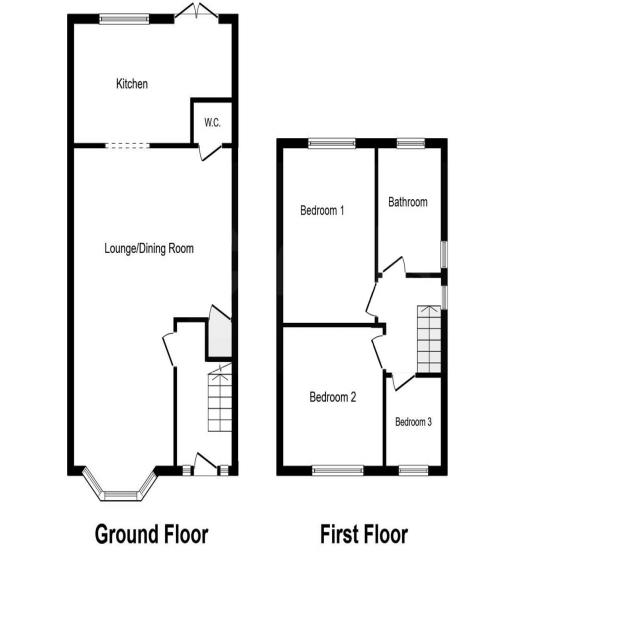DOOR: (193, 449, 218, 476), (160, 330, 177, 368), (381, 254, 407, 278), (370, 333, 386, 371), (391, 372, 416, 394), (364, 281, 378, 318)
DOUBLE DOOR: (174, 1, 219, 20)
ROOM: (67, 143, 239, 503), (67, 0, 239, 149), (276, 137, 379, 328), (276, 323, 386, 476), (382, 372, 448, 476)
WINDOW: (81, 465, 158, 502), (311, 464, 365, 477), (98, 13, 150, 26), (307, 137, 357, 150), (398, 464, 429, 477), (396, 137, 426, 150), (440, 240, 448, 269), (441, 285, 448, 311), (219, 464, 229, 477), (181, 464, 191, 477)
